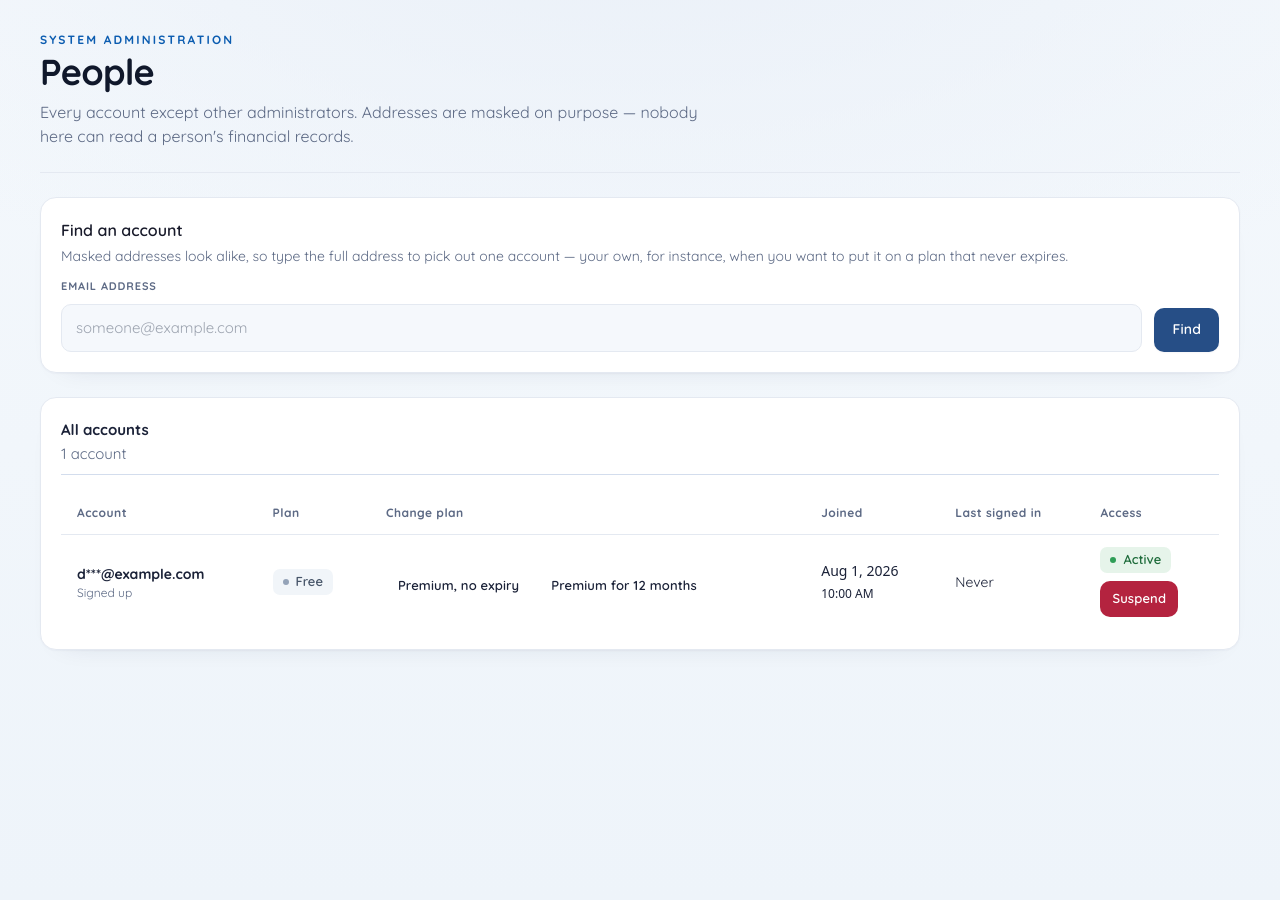
it: AdminUsersPage › confirms before suspending, because it signs the person out immediately
Expected: the text "d***@example.com" is shown, [77,565,204,583]
Click the button "Suspend": (1139, 599) [1100,581,1178,617]
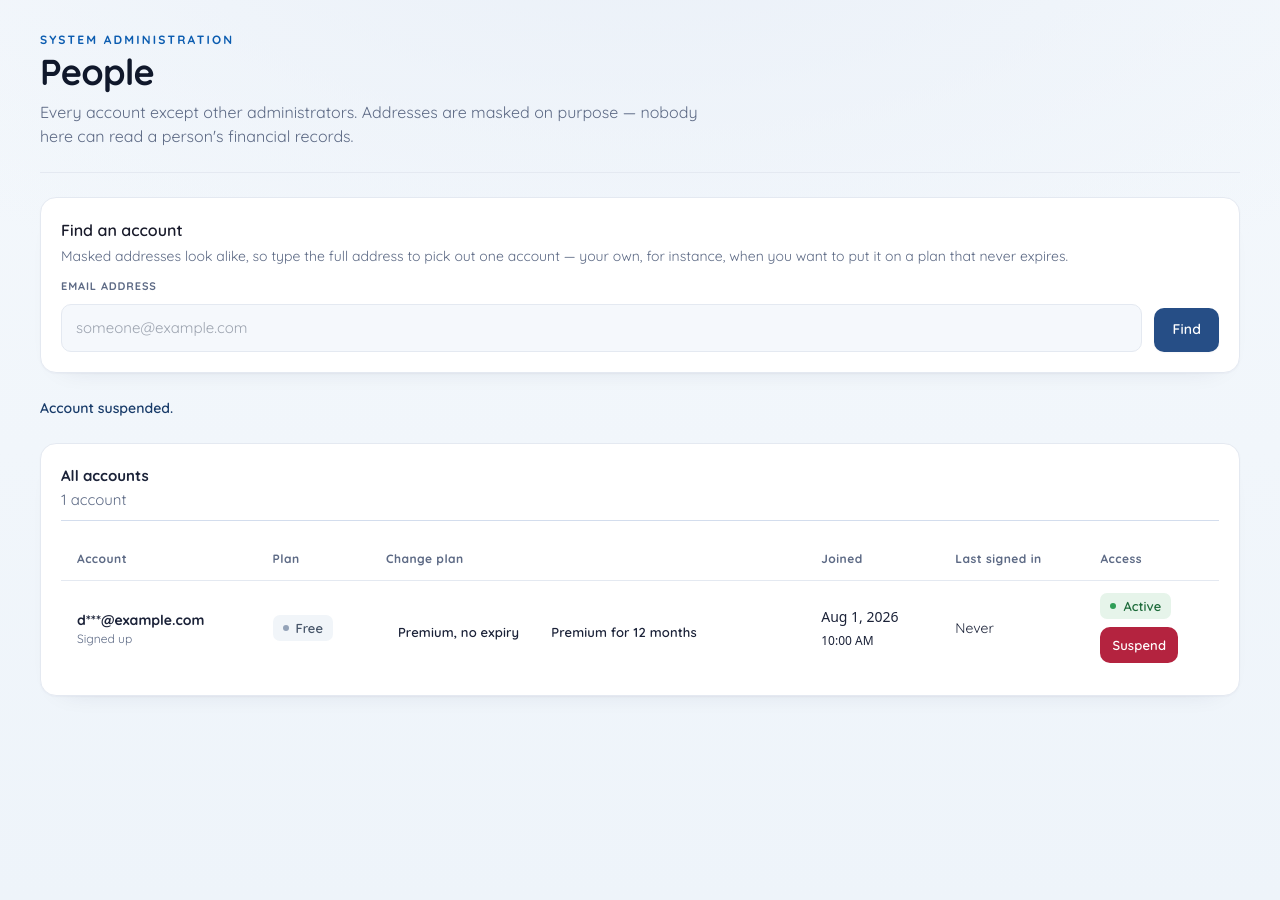
Now the text "Account suspended." is shown, box [40,399,173,417]
